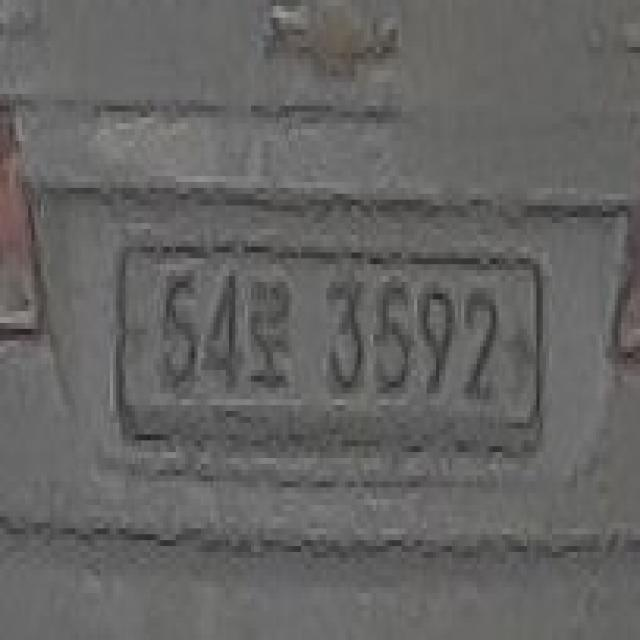2: (458, 270, 505, 429)
3: (323, 234, 364, 428)
4: (198, 241, 245, 399)
5: (154, 247, 204, 399), (370, 252, 411, 417)
9: (414, 276, 455, 405)
license_plate: (107, 229, 546, 470)
lo: (242, 276, 298, 393)
